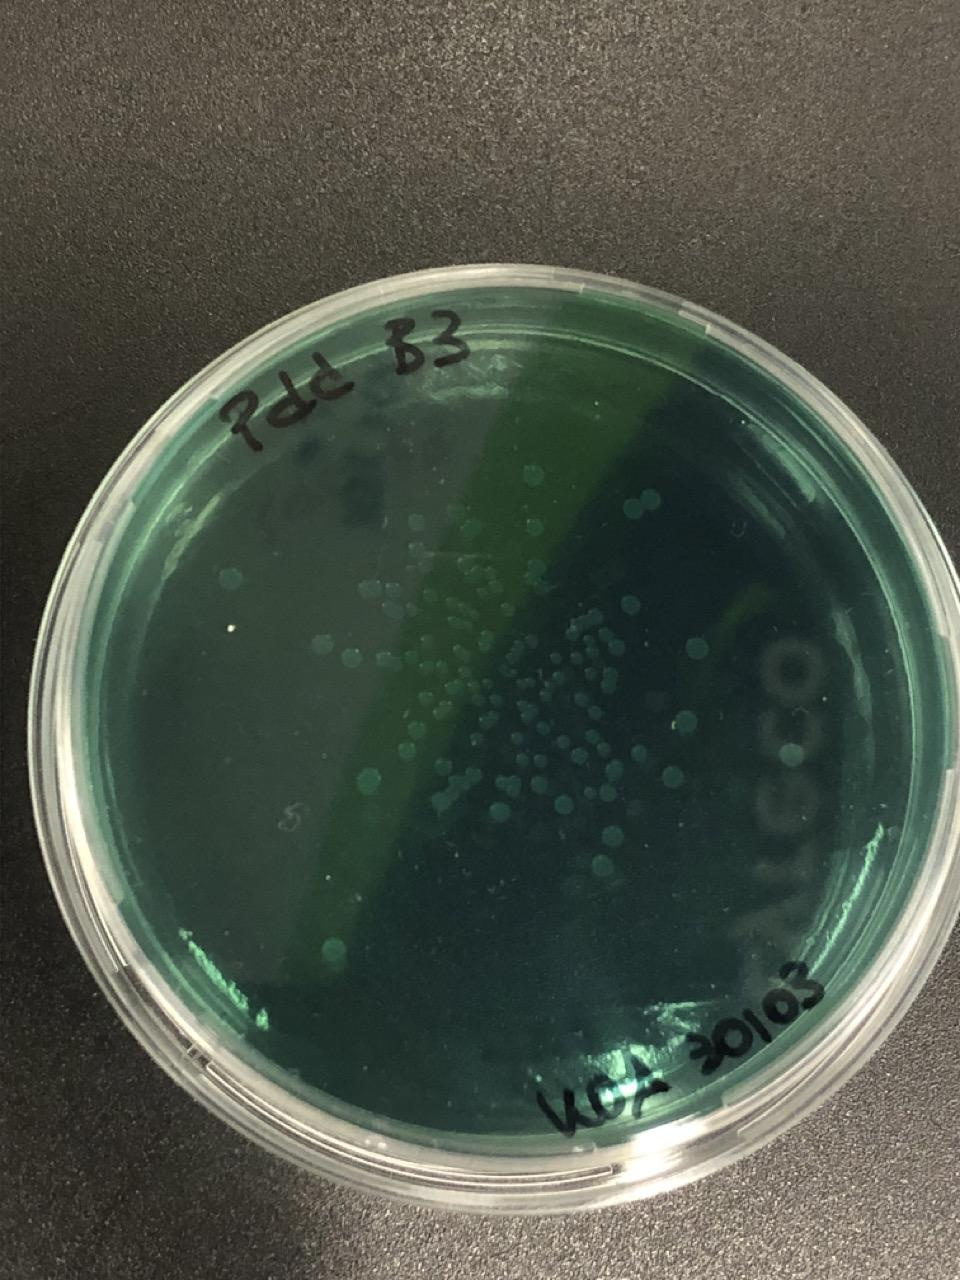pddamselae: (622, 487, 663, 522), (599, 626, 625, 655), (494, 774, 524, 799), (584, 730, 612, 756), (458, 766, 483, 794), (432, 787, 459, 810), (320, 938, 344, 962), (590, 852, 614, 876), (601, 823, 625, 847), (358, 766, 382, 790), (674, 710, 698, 734), (341, 648, 365, 672), (684, 636, 708, 660), (618, 592, 642, 616), (217, 567, 241, 591), (522, 514, 546, 538), (522, 462, 546, 486), (471, 692, 504, 709), (659, 766, 682, 790), (777, 742, 800, 766), (388, 602, 418, 620), (311, 634, 335, 656), (404, 510, 428, 532), (420, 661, 450, 678), (600, 668, 617, 694), (554, 795, 574, 815), (630, 744, 650, 764), (406, 720, 426, 739), (491, 801, 510, 820), (398, 742, 416, 762), (432, 706, 448, 724), (583, 666, 599, 684), (487, 578, 503, 596), (527, 556, 543, 574), (418, 556, 434, 574), (582, 784, 598, 801), (531, 777, 547, 794), (508, 731, 524, 748), (534, 719, 550, 736), (572, 748, 588, 764), (574, 692, 590, 708), (550, 670, 566, 686), (457, 664, 473, 680), (548, 650, 564, 666), (406, 650, 422, 666), (420, 634, 436, 650), (526, 632, 542, 648), (385, 582, 401, 598), (408, 542, 424, 558), (607, 762, 623, 777), (434, 759, 450, 774), (533, 753, 549, 768), (513, 698, 529, 713), (538, 689, 554, 704), (581, 634, 597, 649), (500, 602, 516, 617), (470, 731, 484, 748), (446, 681, 460, 698), (601, 784, 617, 798), (513, 752, 529, 766), (557, 734, 573, 748), (588, 706, 604, 720), (417, 692, 433, 706), (570, 650, 584, 666), (422, 588, 438, 602), (480, 564, 496, 578), (378, 652, 392, 666)
